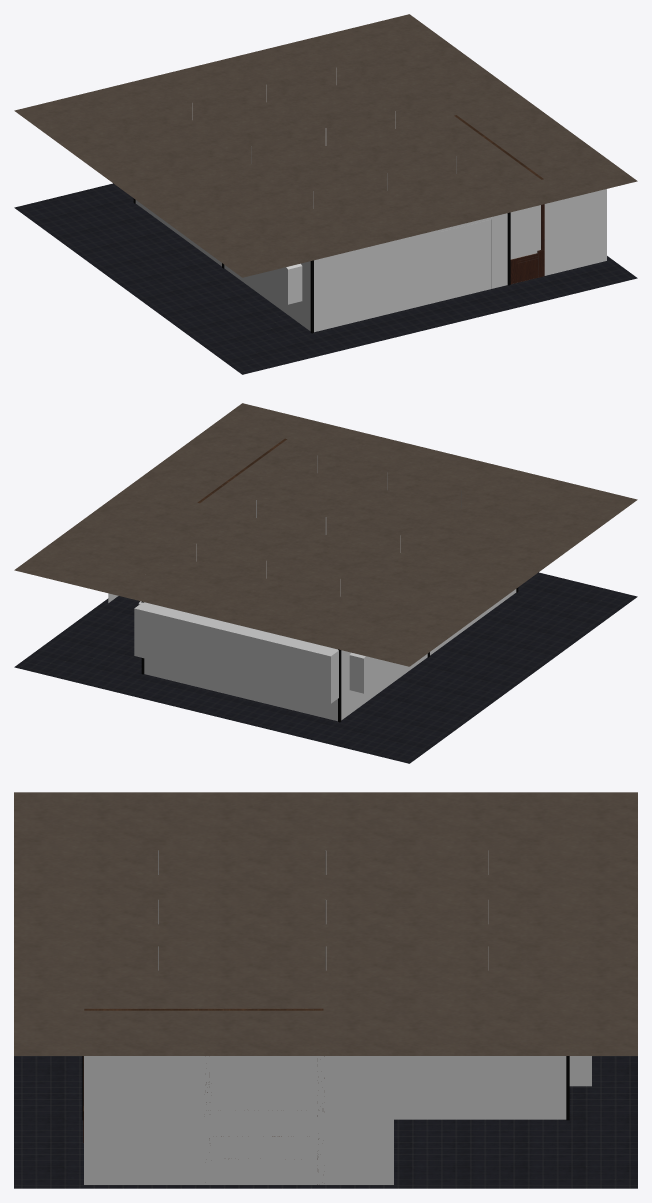
File: Room_01.fbx
3 renders of one model, top to bottom at view 1: azimuth 30°, elevation 25°; view 2: azimuth 150°, elevation 25°; view 3: azimuth 270°, elevation 25°, orthographic. The views are drawn at different scales.
Visible parts, largest first — view 1: roomRoof, roomFloor, room_body, Counter; view 2: roomRoof, roomFloor, room_body; view 3: roomRoof, room_body, roomFloor, Counter.
Boxes of the visible parts, x1=… form: roomRoof: x1=14, y1=14, x2=637, y2=277; roomFloor: x1=14, y1=183, x2=637, y2=374; room_body: x1=133, y1=189, x2=606, y2=333; Counter: x1=454, y1=115, x2=544, y2=284; roomRoof: x1=14, y1=403, x2=637, y2=666; roomFloor: x1=14, y1=572, x2=637, y2=763; room_body: x1=108, y1=587, x2=518, y2=722; roomRoof: x1=14, y1=792, x2=637, y2=1055; room_body: x1=82, y1=1056, x2=591, y2=1184; roomFloor: x1=14, y1=1056, x2=637, y2=1188; Counter: x1=83, y1=1008, x2=324, y2=1184.
Bounding box in the file's own units: 15631 × 4379 × 15631.
